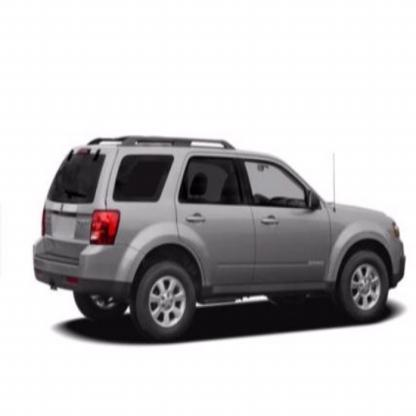Vehicle: (33, 137, 406, 341)
